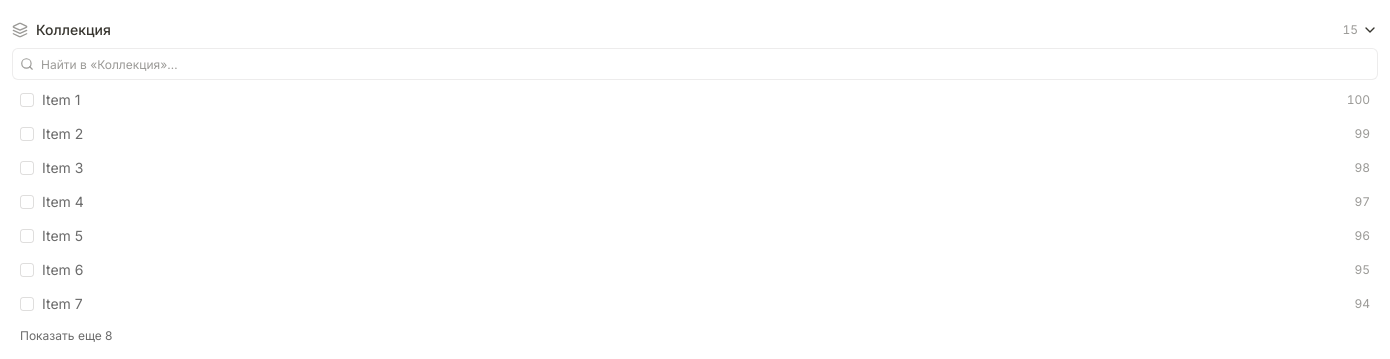
Test: FilterSection — search & show more › shows the empty state when no items match the search
The image size is (1390, 359).
Type "asdfghjkl" into the field with placeholder "Найти в «Коллекция»…". click: (695, 64)
box: [12,48,1378,80]
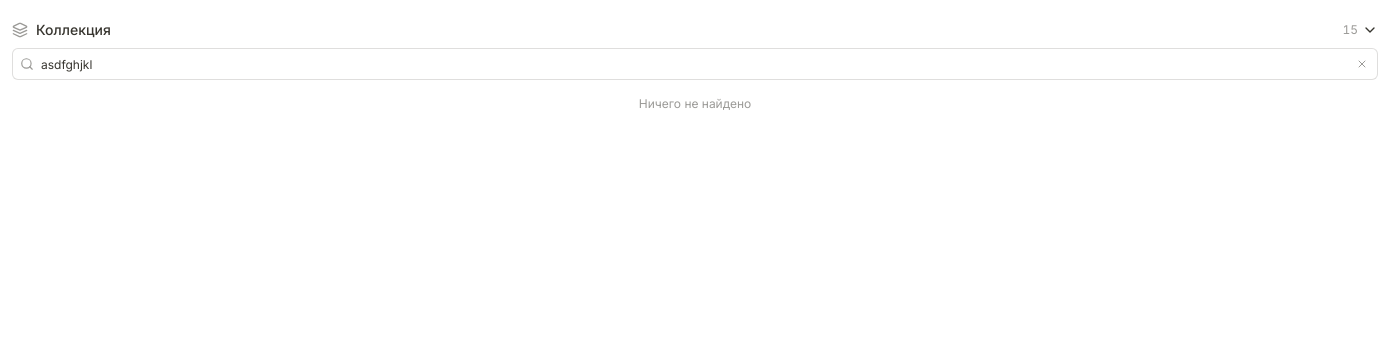
Check: the text "Ничего не найдено" is shown, box [639,96,751,111]
